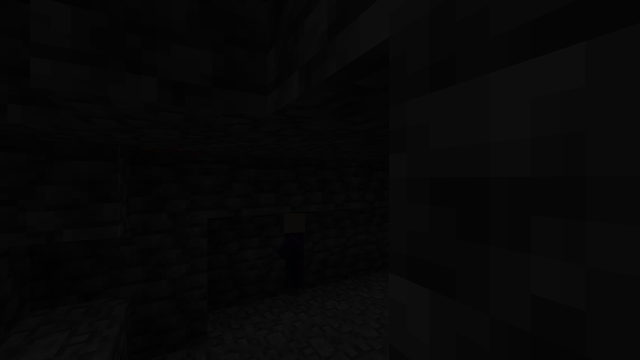sorcieres: (282, 226, 311, 299)
